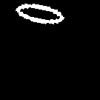chain: (16, 4, 63, 23)
